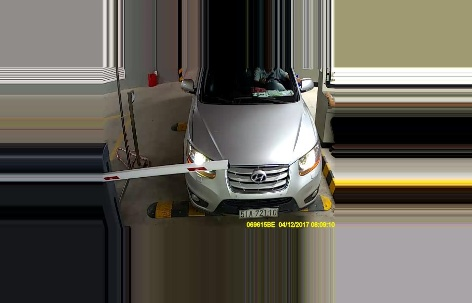plate: (236, 205, 282, 219)
